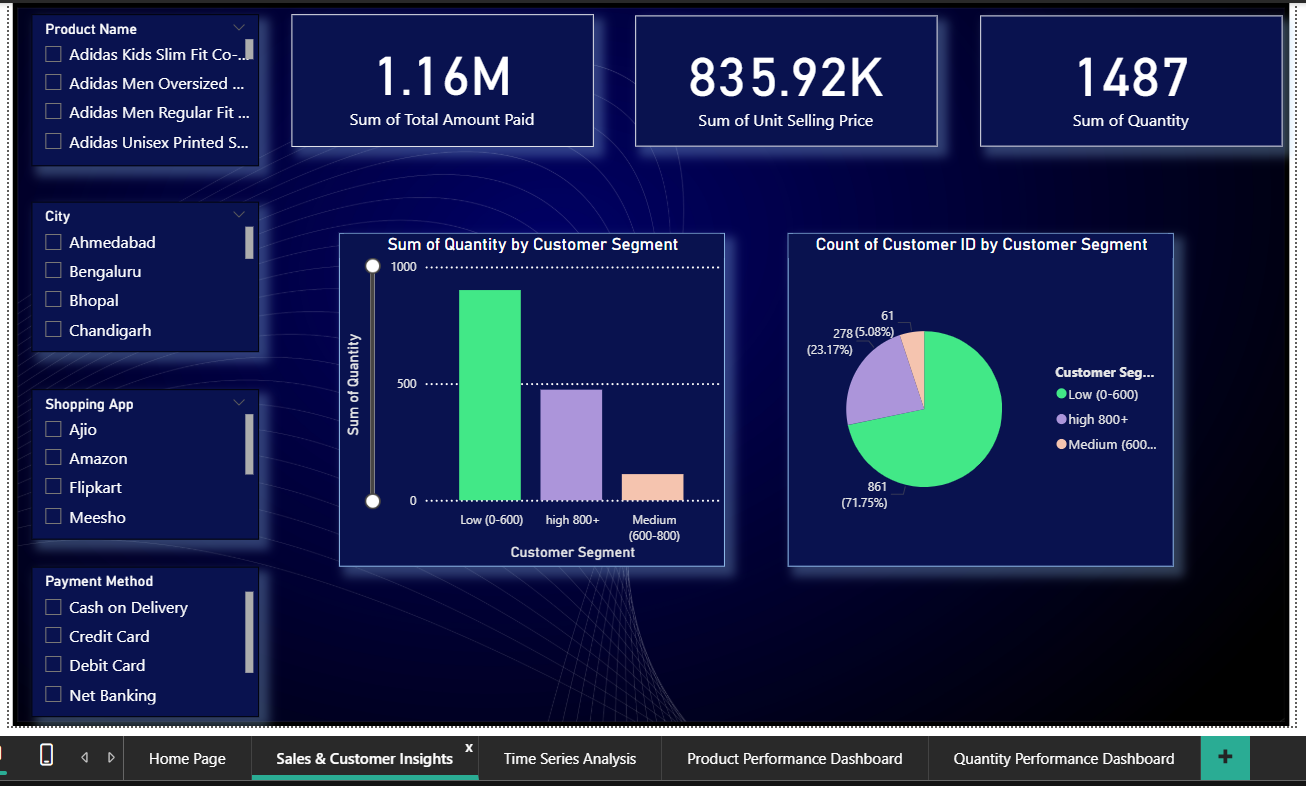

The page's visual inventory and layout, read from the dashboard file:
{"tool":"powerbi","page":{"name":"Page 1","canvas":[1280,720],"ordinal":0},"visuals":[{"type":"pieChart","fields":{"Category":["customer_purchase_dataset.Customer Segment"],"Y":["CountNonNull(customer_purchase_dataset.Customer ID)"]},"box":[804.1,185.2,326.6,222.3],"z":0},{"type":"columnChart","fields":{"Category":["customer_purchase_dataset.Customer Segment"],"Y":["Sum(customer_purchase_dataset.Quantity)"]},"box":[362.3,185.2,348.5,222.3],"z":1},{"type":"lineChart","fields":{"Category":["customer_purchase_dataset.Customer Segment","customer_purchase_dataset.Purchase Date.Variation.Date Hierarchy.Quarter"],"Y":["Sum(customer_purchase_dataset.Total Amount Paid)"]},"box":[359.5,419.9,771.2,300.5],"z":2},{"type":"card","fields":{"Values":["Sum(customer_purchase_dataset.Quantity)"]},"box":[979.5,0,300.5,149.6],"z":3},{"type":"card","fields":{"Values":["Sum(customer_purchase_dataset.Unit Selling Price)"]},"box":[629.4,1.4,300.5,149.6],"z":4},{"type":"card","fields":{"Values":["Sum(customer_purchase_dataset.Total Amount Paid)"]},"box":[279,1.4,300.5,149.6],"z":5},{"type":"slicer","fields":{"Values":["customer_purchase_dataset.Shopping App"]},"box":[4.1,373.2,226.4,149.6],"z":6},{"type":"slicer","fields":{"Values":["customer_purchase_dataset.Payment Method"]},"box":[4.1,558.5,226.4,149.6],"z":7},{"type":"slicer","fields":{"Values":["customer_purchase_dataset.Gender"]},"box":[4.1,188,226.4,149.6],"z":8},{"type":"slicer","fields":{"Values":["customer_purchase_dataset.Product Name"]},"box":[4,1,226,150],"z":9}]}

Visuals, with their boxes on the page's 1280x720 design canvas (x1, y1, x2, y2). These are canvas units, not pixel positions in the 1306x786 screenshot, which may show the page scaled, cropped or inside an application window:
pieChart - customer_purchase_dataset.Customer Segment x CountNonNull(customer_purchase_dataset.Customer ID): locate(804, 185, 1131, 408)
columnChart - customer_purchase_dataset.Customer Segment x Sum(customer_purchase_dataset.Quantity): locate(362, 185, 711, 408)
lineChart - customer_purchase_dataset.Customer Segment x customer_purchase_dataset.Purchase Date.Variation.Date Hierarchy.Quarter: locate(360, 420, 1131, 720)
card - Sum(customer_purchase_dataset.Quantity): locate(980, 0, 1280, 150)
card - Sum(customer_purchase_dataset.Unit Selling Price): locate(629, 1, 930, 151)
card - Sum(customer_purchase_dataset.Total Amount Paid): locate(279, 1, 580, 151)
slicer - customer_purchase_dataset.Shopping App: locate(4, 373, 230, 523)
slicer - customer_purchase_dataset.Payment Method: locate(4, 558, 230, 708)
slicer - customer_purchase_dataset.Gender: locate(4, 188, 230, 338)
slicer - customer_purchase_dataset.Product Name: locate(4, 1, 230, 151)
